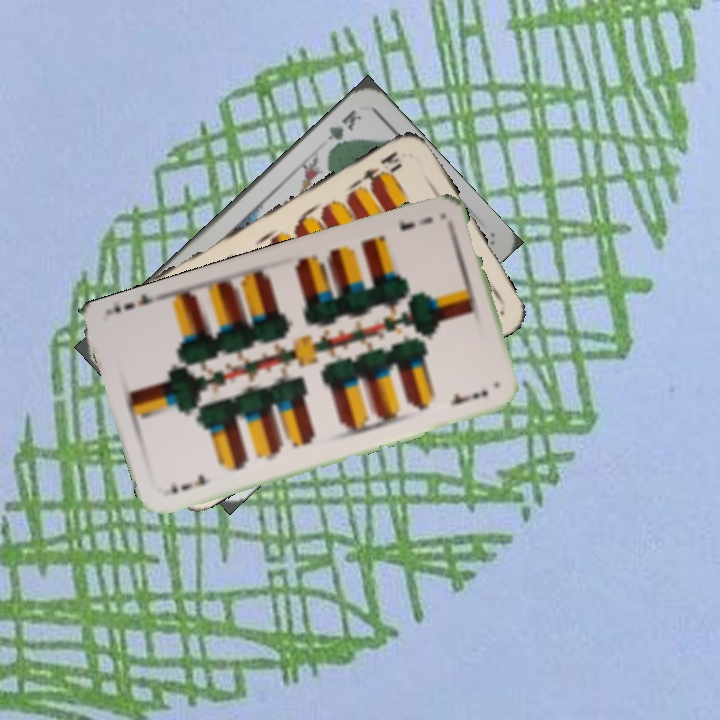E10: (354, 147, 405, 192)
E7: (167, 470, 214, 496), (395, 213, 435, 233)
GK: (323, 105, 364, 156)
